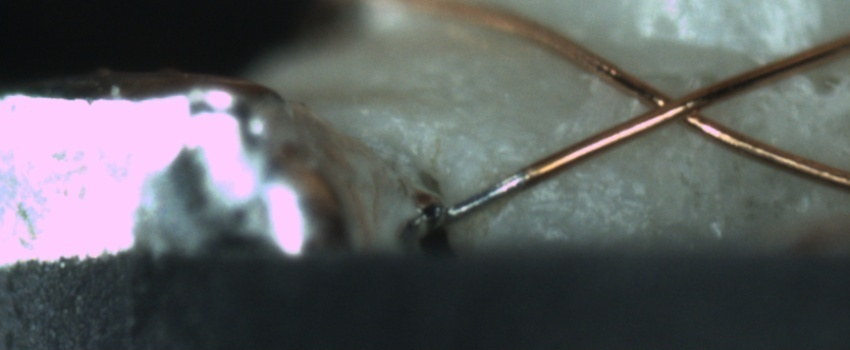CL: (625, 74, 729, 136)
DL: (514, 173, 654, 216)
TS: (443, 173, 531, 221)
